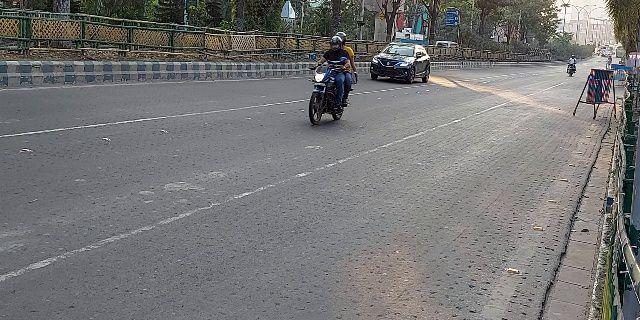Car: (370, 34, 431, 88)
Motorbike: (300, 33, 354, 128)
